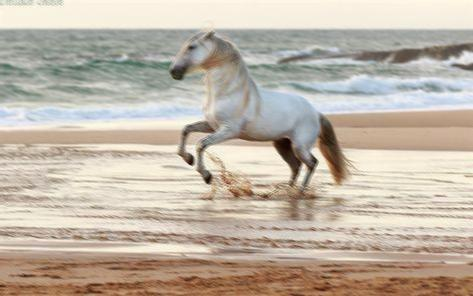horse: (168, 28, 356, 196)
